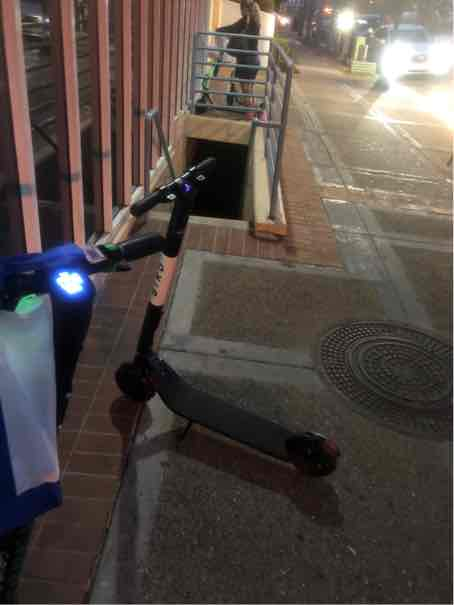scooter: (48, 151, 349, 517)
